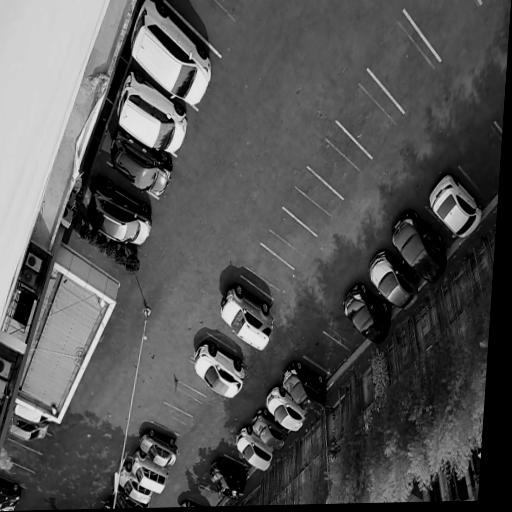Car: (125, 0, 219, 112), (110, 64, 195, 157), (84, 171, 159, 248), (385, 206, 453, 288), (106, 125, 178, 201), (424, 169, 487, 243), (214, 283, 279, 353), (362, 247, 424, 313), (338, 281, 395, 348), (192, 340, 249, 401), (277, 360, 332, 418), (262, 385, 309, 432), (232, 425, 276, 473), (205, 458, 251, 502), (137, 427, 182, 471), (131, 449, 171, 497), (249, 409, 290, 453), (119, 462, 154, 506), (7, 414, 52, 442), (108, 483, 149, 509), (0, 477, 25, 510), (13, 403, 52, 423)
Space Available: (367, 13, 440, 115), (336, 69, 404, 160), (307, 121, 372, 200), (403, 0, 481, 64), (164, 0, 246, 59), (283, 166, 344, 238), (260, 208, 317, 270), (459, 123, 502, 201), (241, 244, 294, 300), (303, 333, 350, 375), (324, 313, 363, 353), (164, 381, 206, 418), (2, 439, 42, 473), (154, 402, 192, 437), (206, 318, 243, 352), (0, 458, 35, 489), (8, 433, 50, 456), (179, 371, 211, 398), (189, 486, 222, 507), (225, 449, 251, 468)
